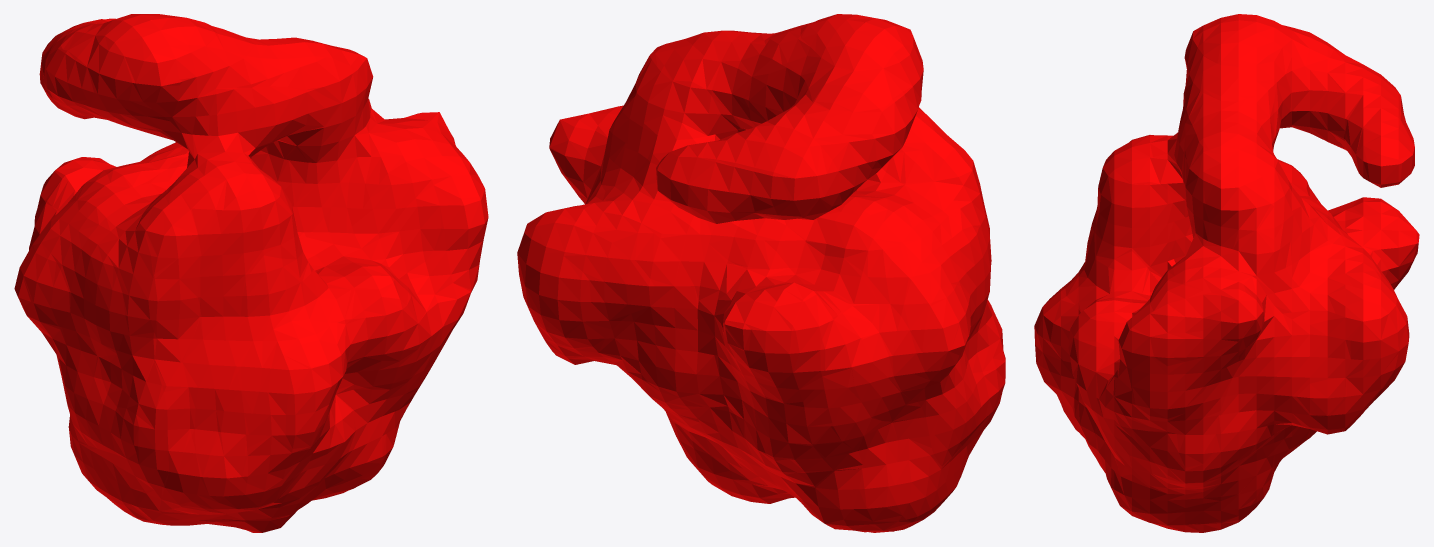
File: lpxM_coarse.dae
3 renders of one model, left to right at view 1: azimuth 30°, elevation 25°; view 2: azimuth 150°, elevation 25°; view 3: azimuth 270°, elevation 25°, orthographic. The views are drawn at different scales.
Visible parts, largest first — view 1: lpxM; view 2: lpxM; view 3: lpxM.
Boxes of the visible parts, x1,y1,x2,y2 form: lpxM: [14, 14, 488, 532]; lpxM: [517, 14, 1005, 532]; lpxM: [1034, 14, 1419, 532].
Bounding box in the file's own units: 56.03 × 63.86 × 49.15.
